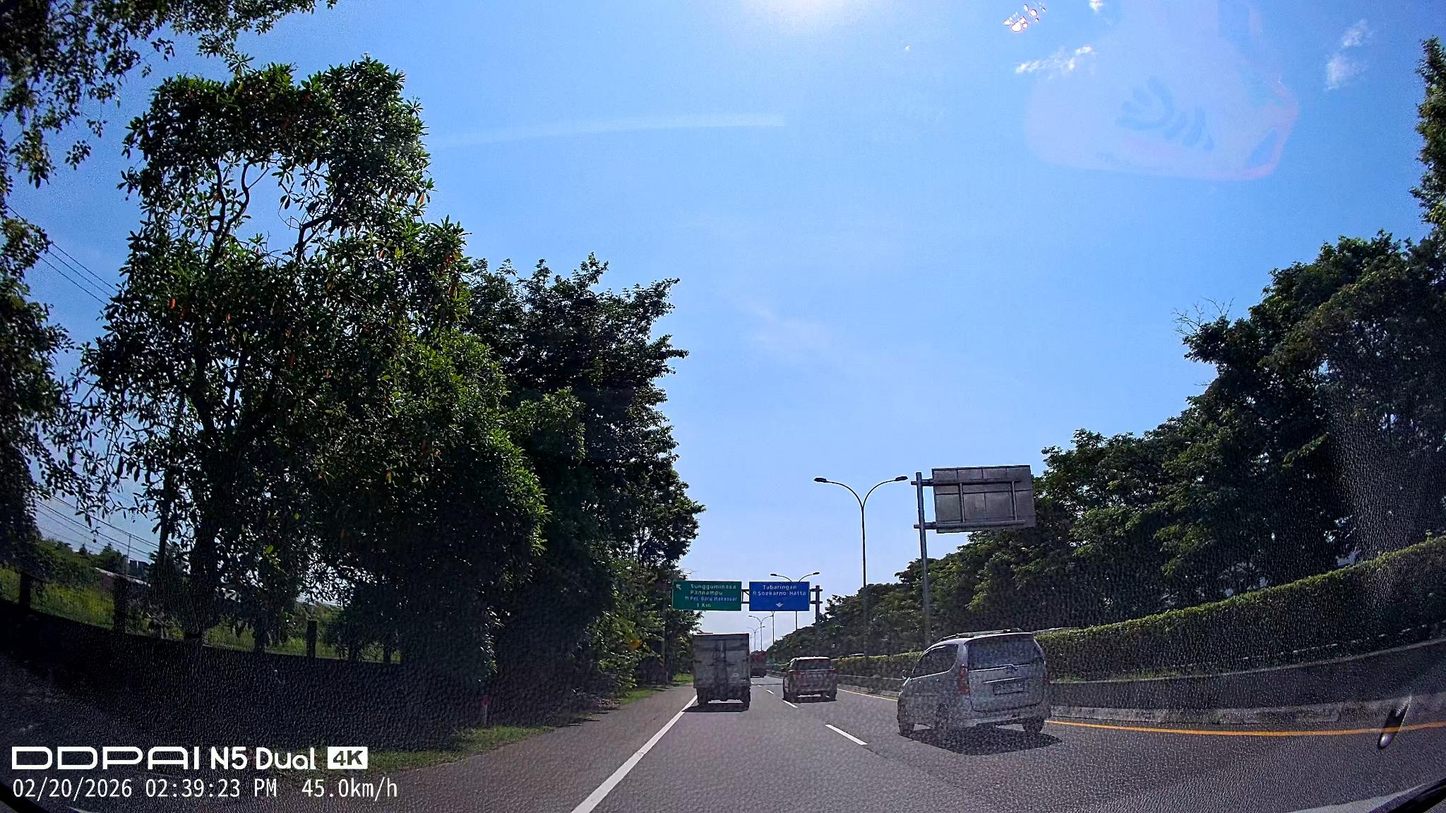rambu_teks: (671, 579, 742, 611), (748, 581, 811, 612)
